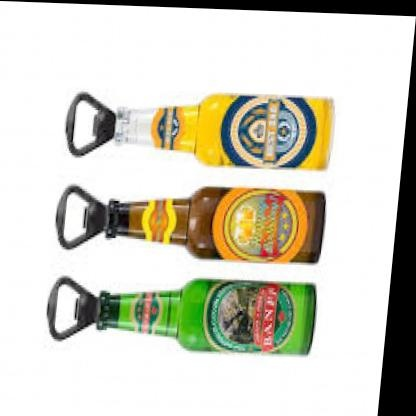trash: (47, 277, 315, 353), (66, 93, 332, 169), (56, 186, 324, 261)
